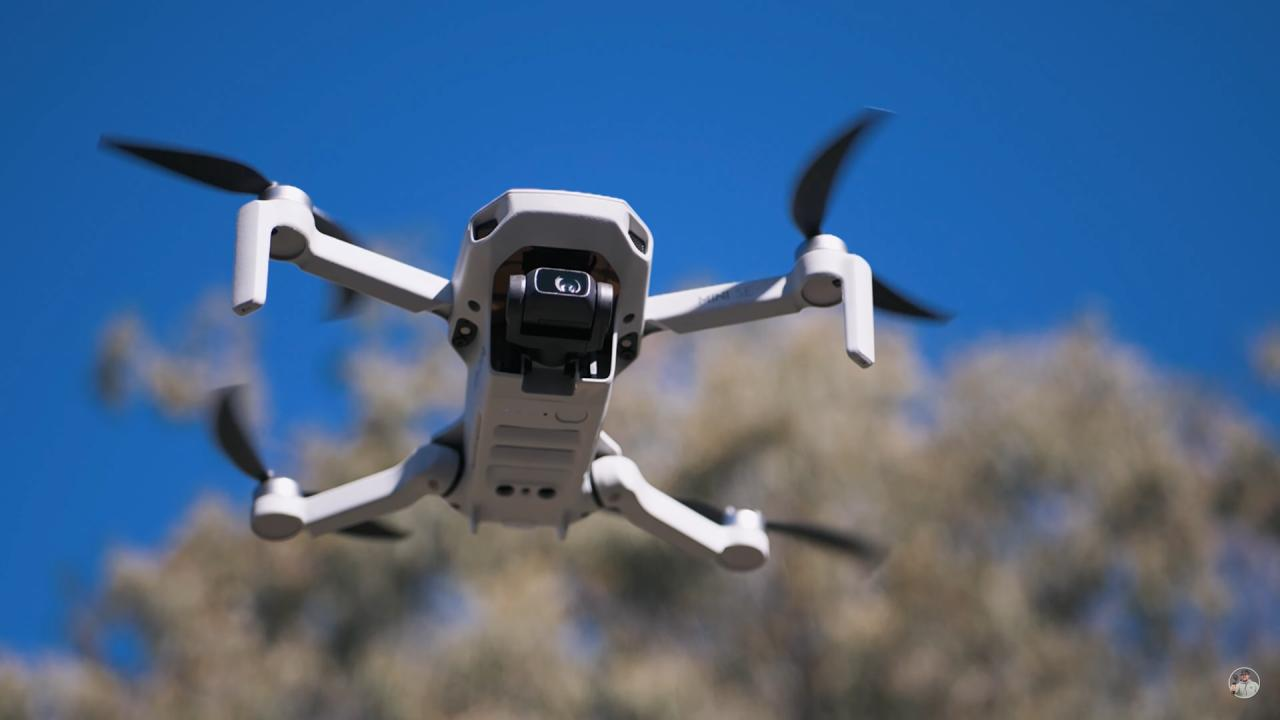Drone: (86, 93, 973, 594)
